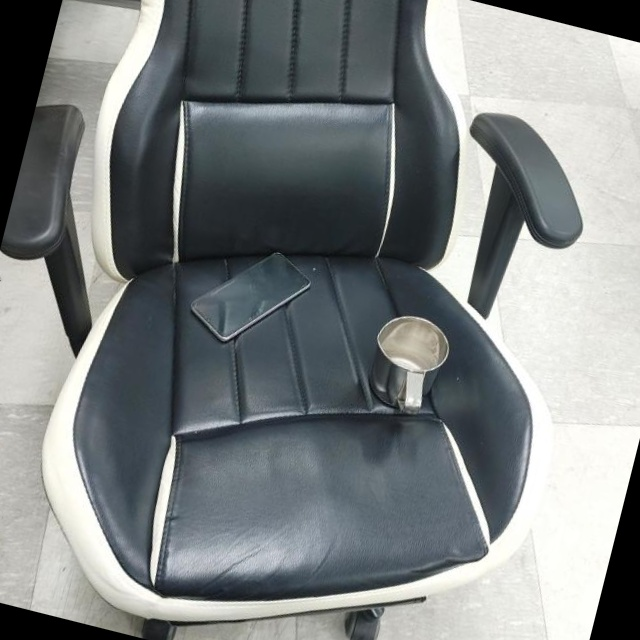cup: (359, 306, 455, 424)
phone: (183, 234, 317, 357)
